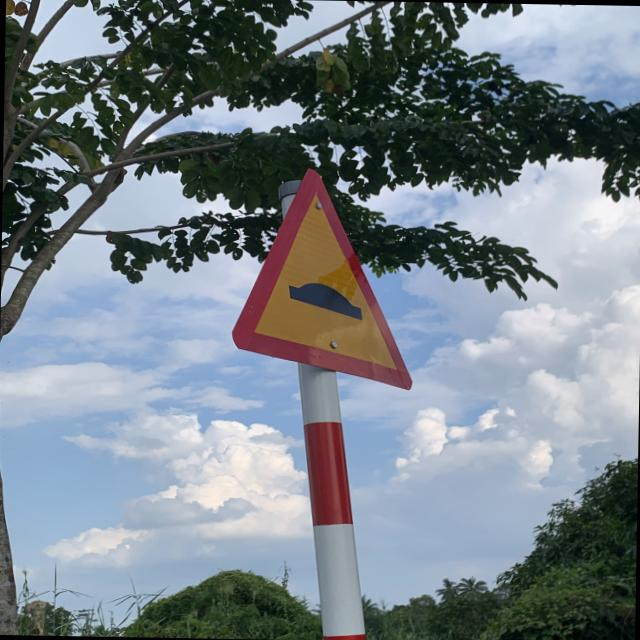Duong_Cong_Ben_Phai: (233, 168, 417, 388)
